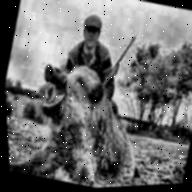boar: (14, 46, 161, 191)
